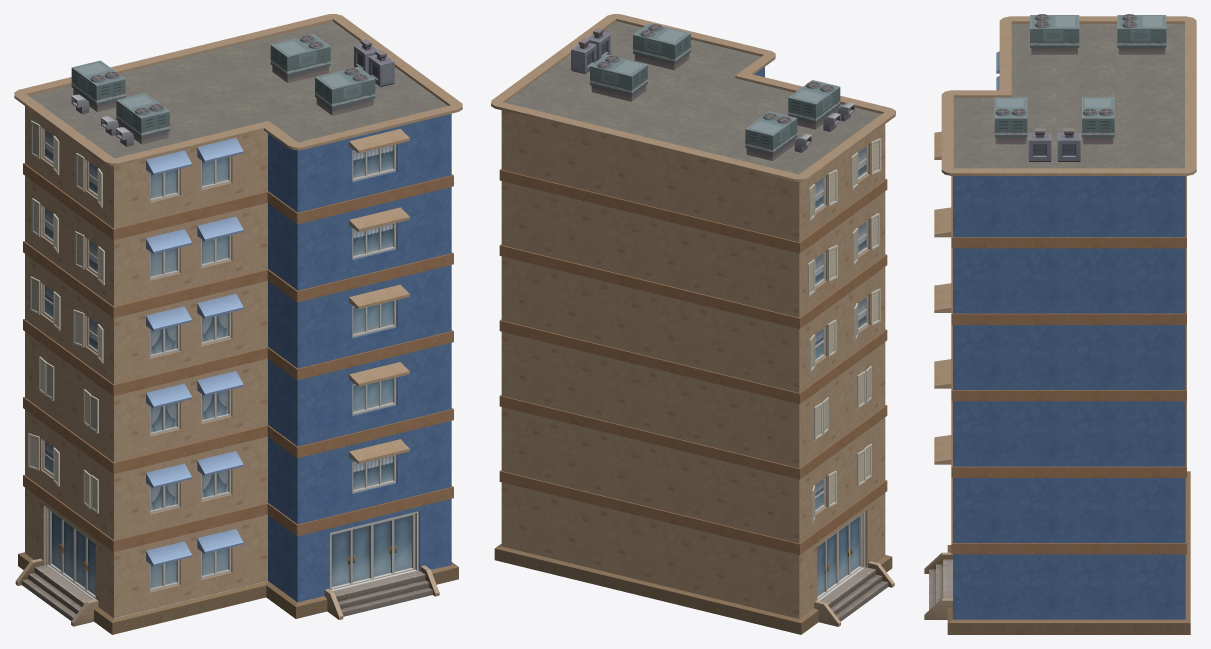
Rendered from Building_10-transformed.glb.
The picture shows the model from 3 angles, left to right: view 1: azimuth 30°, elevation 25°; view 2: azimuth 150°, elevation 25°; view 3: azimuth 270°, elevation 25°; orthographic projection. The views are drawn at different scales.
Visible parts, largest first — view 1: Building_10_Roof_1; view 2: Building_10_Roof_1; view 3: Building_10_Roof_1.
Boxes of the visible parts, bbox=[...] form: Building_10_Roof_1: bbox=[14, 14, 462, 634]; Building_10_Roof_1: bbox=[491, 14, 895, 634]; Building_10_Roof_1: bbox=[924, 14, 1196, 634].
Bounding box in the file's own units: 13.36 × 18.6 × 9.36.
Materials: 12 (12 with a texture image).
